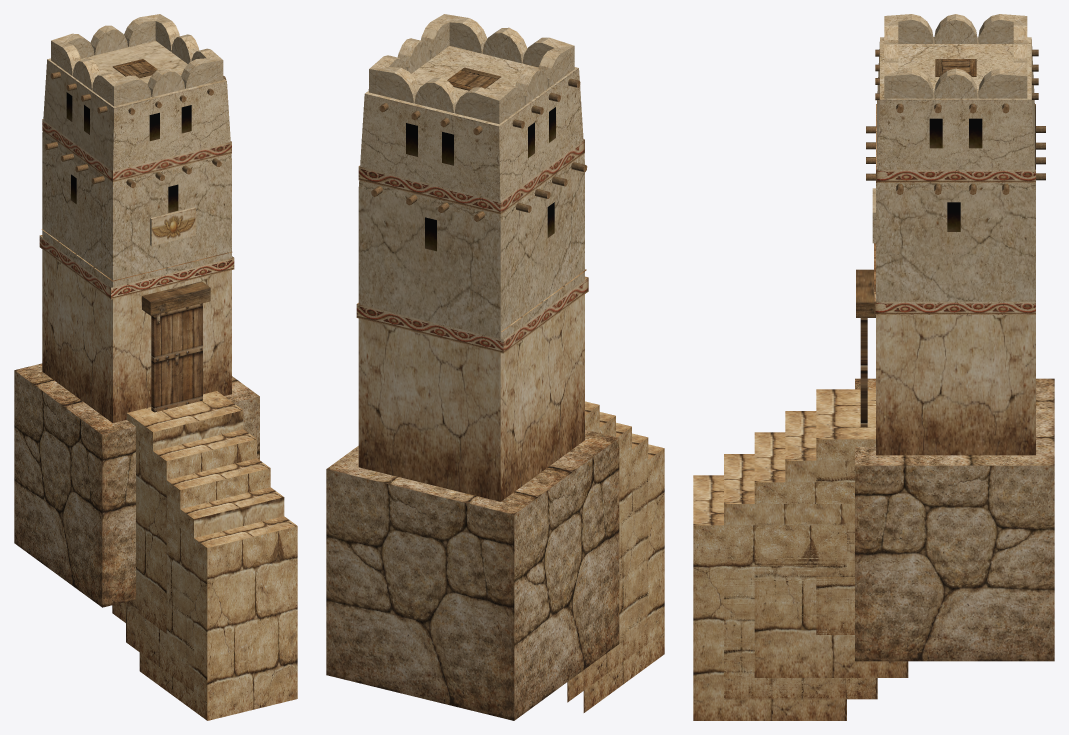
The model's file is sentry_tower.dae.
3 renders of one model, left to right at view 1: azimuth 30°, elevation 25°; view 2: azimuth 150°, elevation 25°; view 3: azimuth 270°, elevation 25°, orthographic. The views are drawn at different scales.
Visible parts, largest first — view 1: defense_tower01; view 2: defense_tower01; view 3: defense_tower01.
Boxes of the visible parts, x1,y1,x2,y2 form: defense_tower01: (14,14,297,720); defense_tower01: (326,14,664,720); defense_tower01: (693,14,1054,720).
Size of the model in its own units: 8.34 by 14.65 by 29.15.
